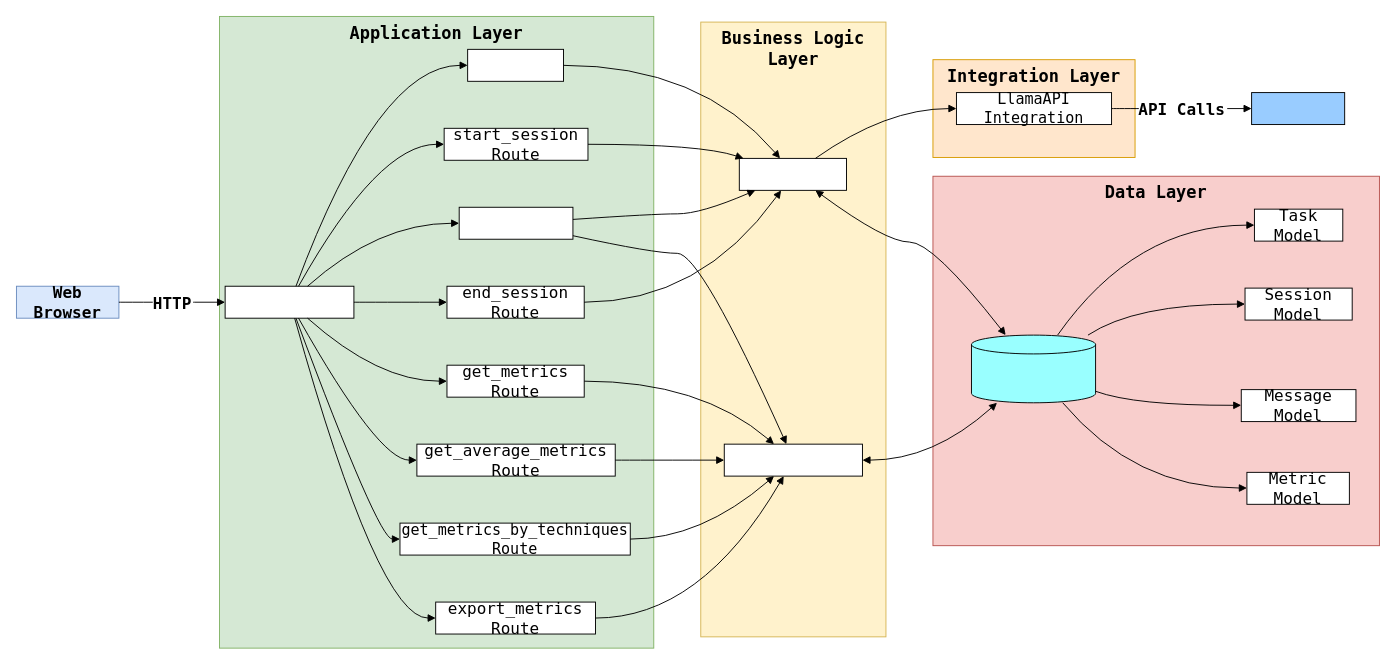
This 1396x665 diagram has some shape labels left out. The shapes that lost their labels are listed below. From the top down, each one's centre as x and y in pixels, then its label:
At pixel 515 64: "Home Route".
At pixel 1298 108: "LlamaAI API".
At pixel 792 173: "Chatbot Logic".
At pixel 515 222: "message Route".
At pixel 289 301: "Flask Web Server".
At pixel 1033 368: "SQLite Database".
At pixel 792 459: "Metric Calculation".
